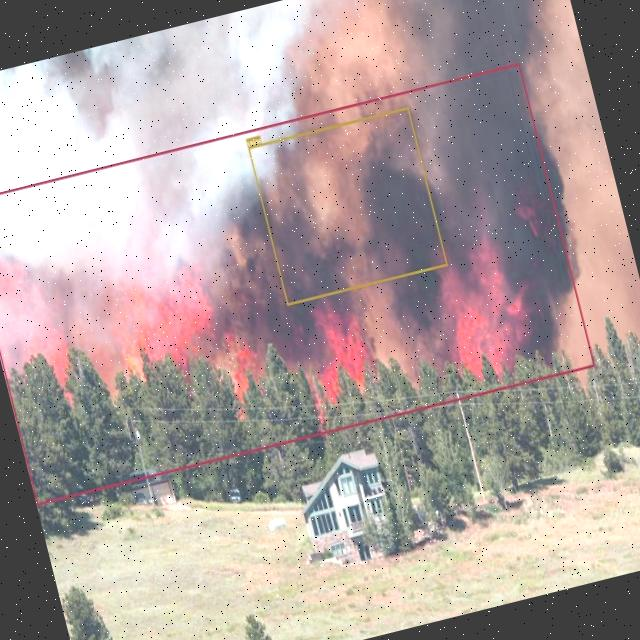fire: (0, 61, 595, 504)
smoke: (247, 106, 448, 304)
